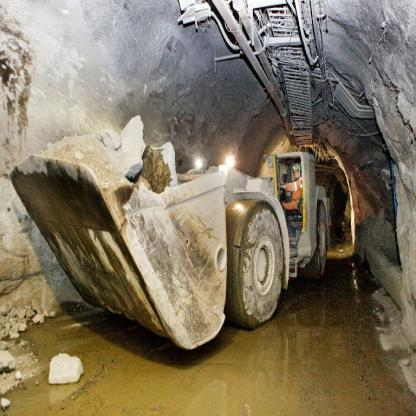bull_dozer/loader/grader: (10, 110, 364, 352)
